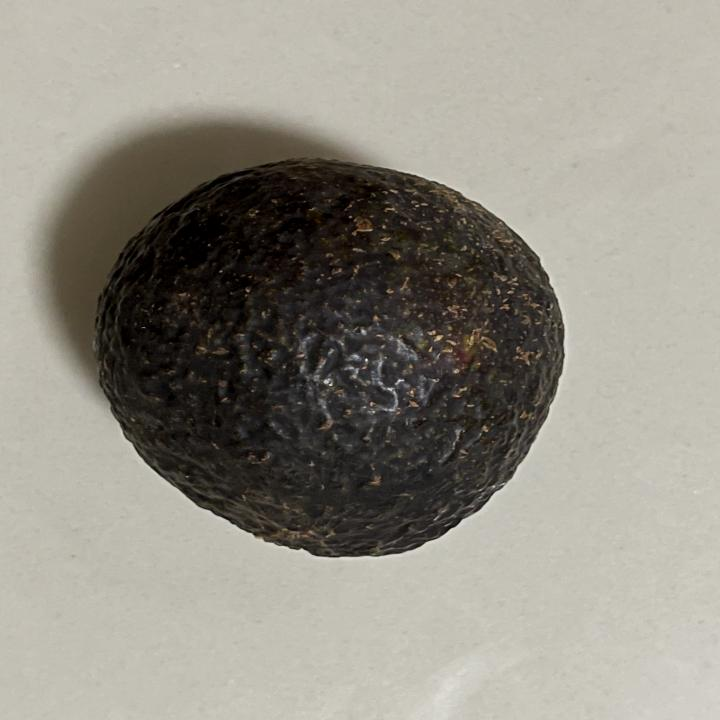Level2: (83, 154, 576, 566)
